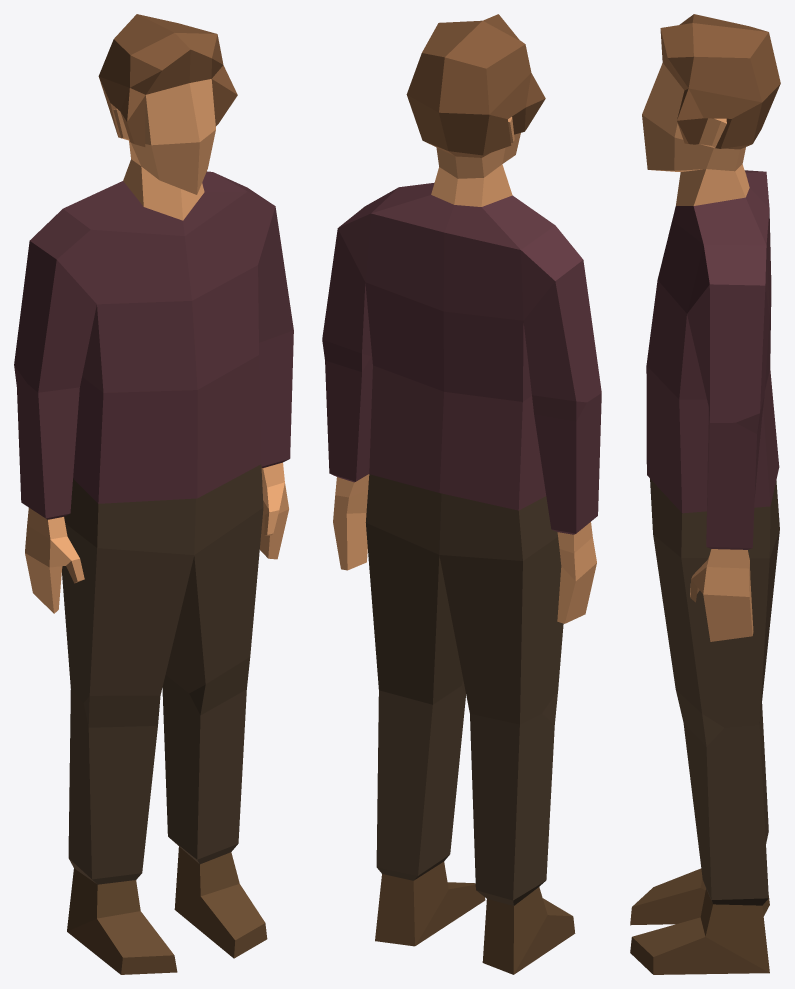
The model's file is man-guy.fbx.
The picture shows the model from 3 angles, left to right: view 1: azimuth 30°, elevation 25°; view 2: azimuth 150°, elevation 25°; view 3: azimuth 270°, elevation 25°; orthographic projection.
Parts seen in each view (by area): view 1: man-guy; view 2: man-guy; view 3: man-guy.
Part boxes in pixels (x1=…): man-guy: x1=14, y1=14, x2=293, y2=974; man-guy: x1=322, y1=14, x2=601, y2=974; man-guy: x1=630, y1=14, x2=780, y2=974.
Bounding box in the file's own units: 0.5438 × 1.85 × 0.2757.
